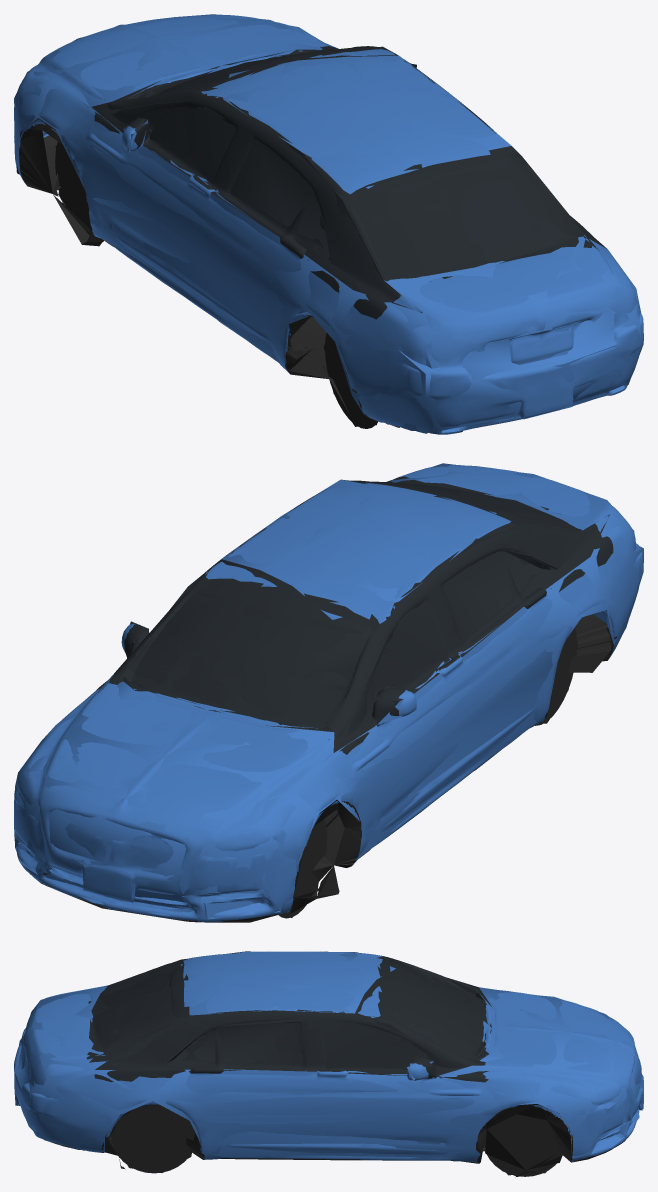
The model's file is lincoln-continental.glb.
3 views of the same model, one above another, from view 1: azimuth 30°, elevation 25°; view 2: azimuth 150°, elevation 25°; view 3: azimuth 270°, elevation 25° (orthographic). The views are drawn at different scales.
Parts seen in each view (by area): view 1: body, far; view 2: body, far; view 3: body, far.
Part boxes in pixels (x1,y1,x2,y2): body: [14, 14, 643, 434]; far: [14, 14, 643, 431]; body: [14, 465, 642, 922]; far: [14, 463, 643, 919]; body: [14, 951, 643, 1176]; far: [14, 951, 643, 1176].
Bounding box in the file's own units: 2 × 1.53 × 5.24.
